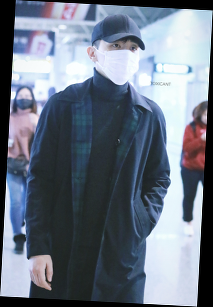with_mask: (98, 39, 140, 86), (15, 90, 34, 110)
